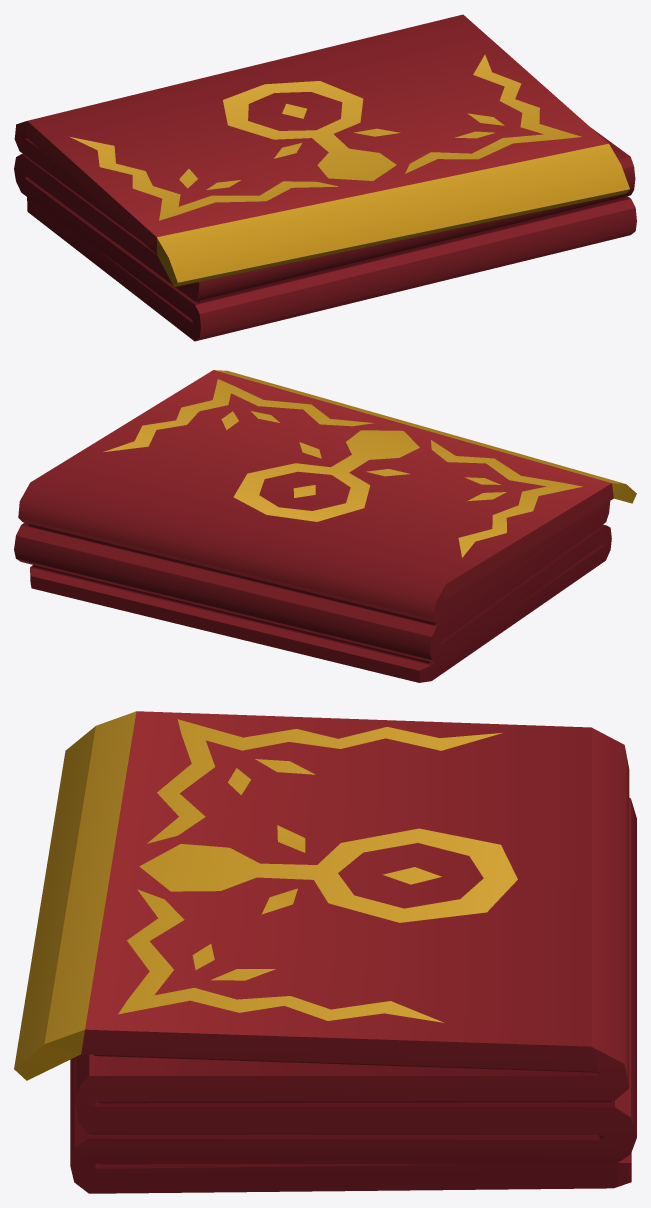
File: phantom_cape.fbx
3 renders of one model, top to bottom at view 1: azimuth 30°, elevation 25°; view 2: azimuth 150°, elevation 25°; view 3: azimuth 270°, elevation 25°, orthographic. The views are drawn at different scales.
Parts seen in each view (by area): view 1: phantom_cape; view 2: phantom_cape; view 3: phantom_cape.
Part boxes in pixels (x1,y1,x2,y2): phantom_cape: [14, 14, 636, 341]; phantom_cape: [14, 370, 636, 682]; phantom_cape: [14, 711, 636, 1193].
Size of the model in its own units: 28.78 by 6.08 by 22.37.
